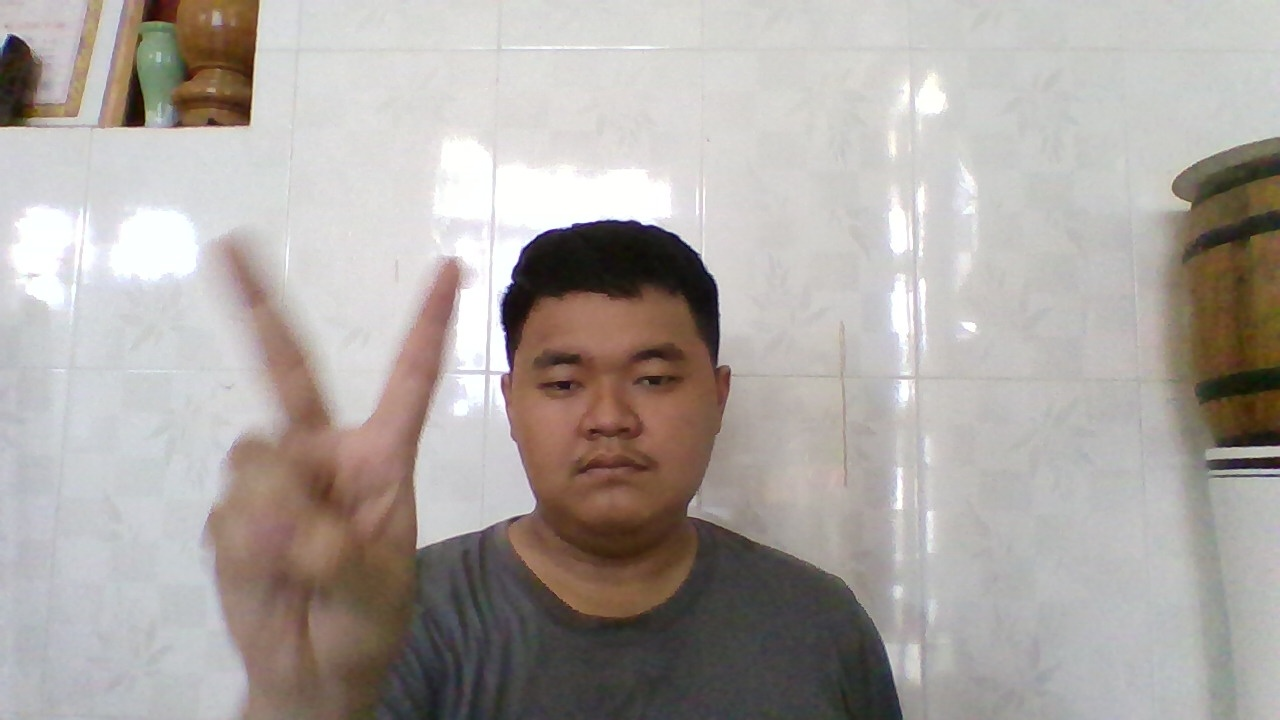V: (213, 235, 463, 693)
